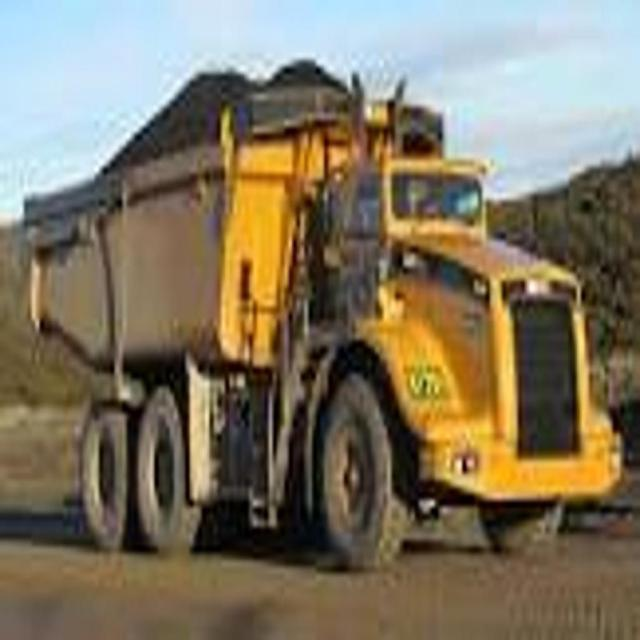dump_truck: (16, 48, 624, 574)
